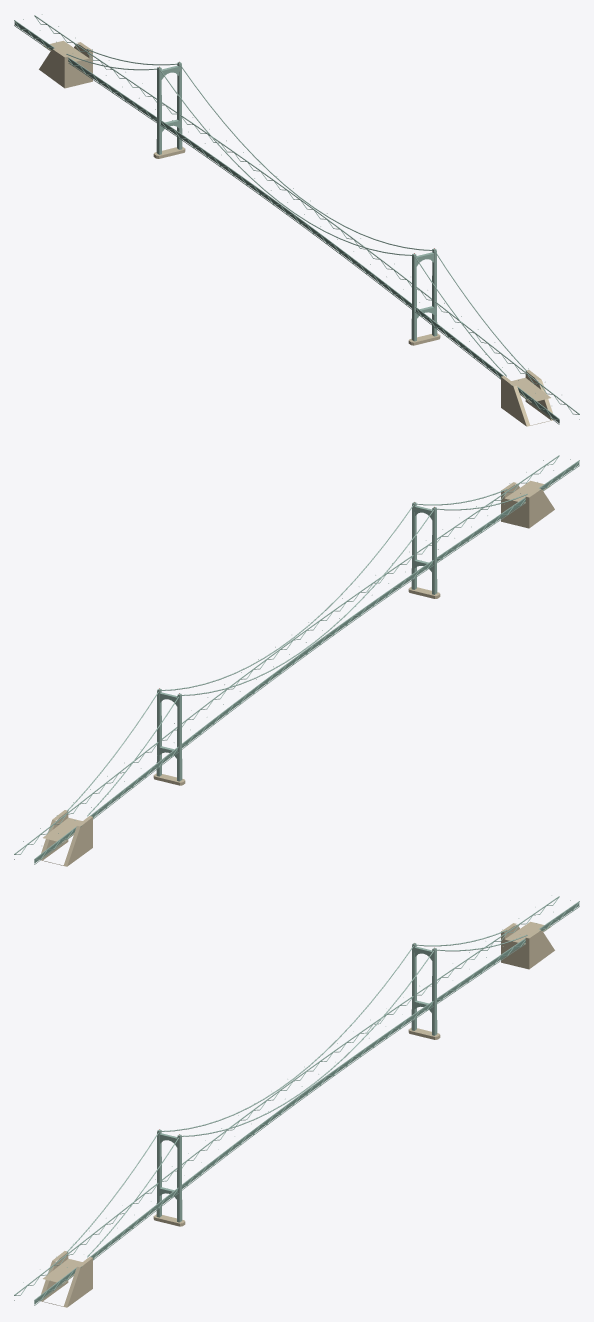
File: phl-walt-whitman-bridge.glb
3 views of the same model, one above another, from view 1: azimuth 30°, elevation 25°; view 2: azimuth 150°, elevation 25°; view 3: azimuth 330°, elevation 25° (orthographic).
Visible parts, largest first — view 1: Walt Whitman Bridge; view 2: Walt Whitman Bridge; view 3: Walt Whitman Bridge.
Boxes of the visible parts, x1,y1,x2,y2 form: Walt Whitman Bridge: (14,14,579,426); Walt Whitman Bridge: (14,455,579,866); Walt Whitman Bridge: (14,895,579,1307).
Size of the model in its own units: 40 by 119 by 1300.
